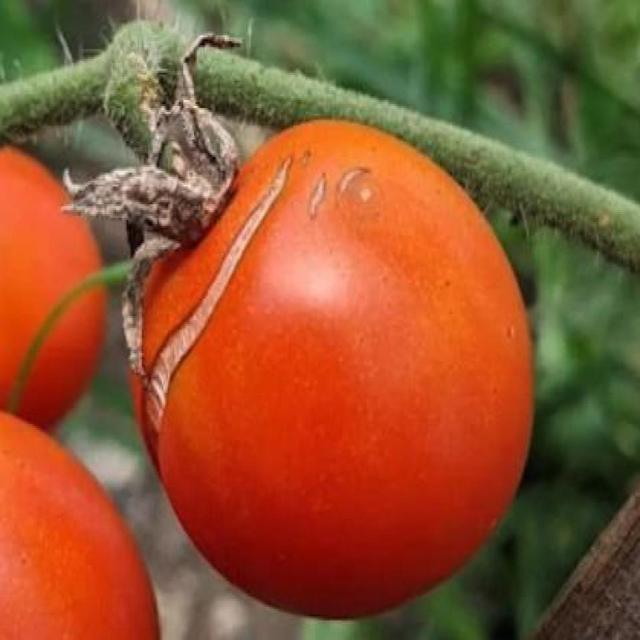Cracking Fruit: (50, 65, 222, 195)
